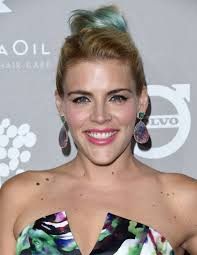mole: (109, 168, 118, 178), (43, 176, 51, 184), (34, 180, 41, 187)
